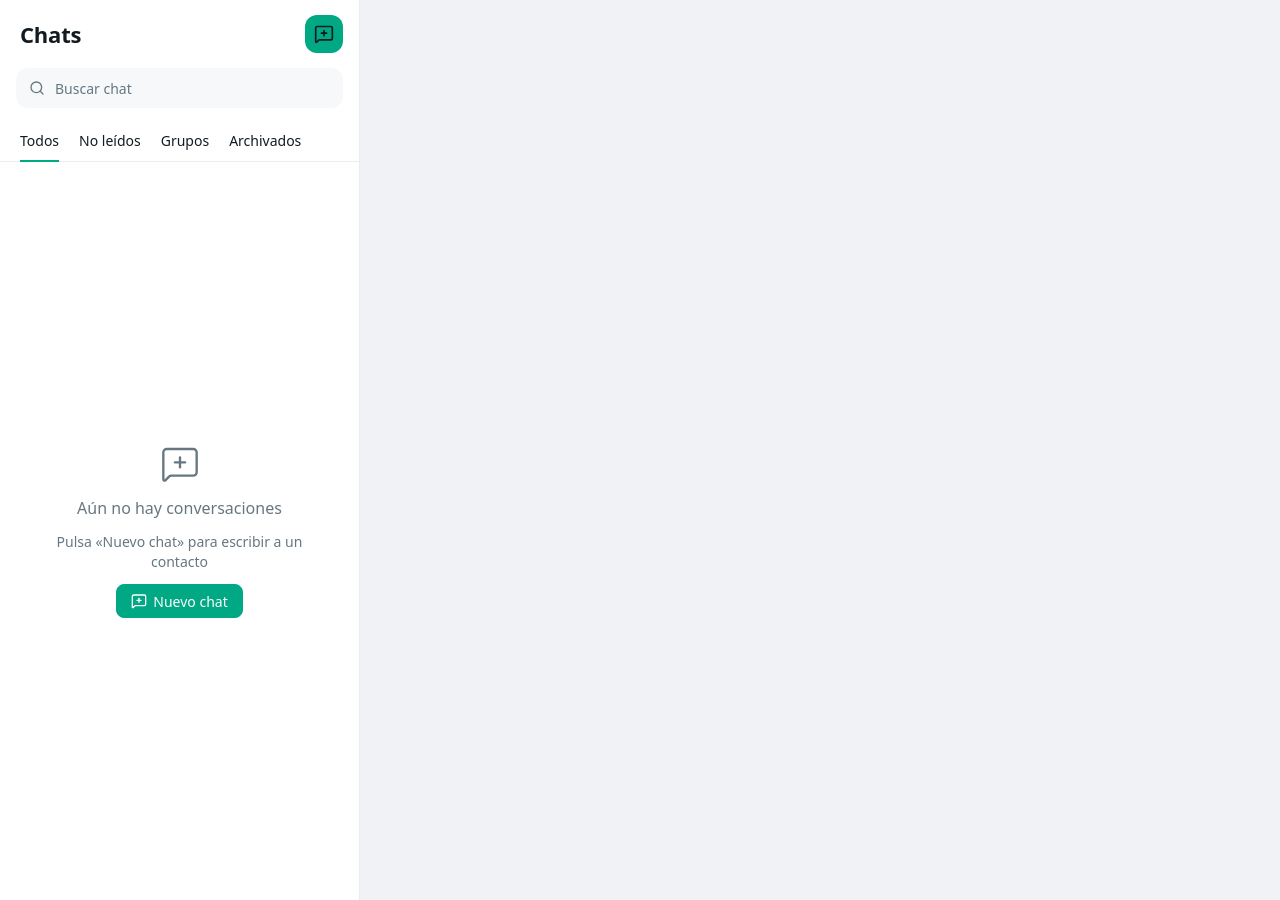
Test: ChatSidebar: botón «Nuevo chat» › junto al buscador abre el diálogo de nuevo chat
// el botón junto al buscador (el del estado vacío tiene el mismo nombre accesible)
Click the button named "Nuevo chat".
click(324, 34)  # box [305,15,343,53]
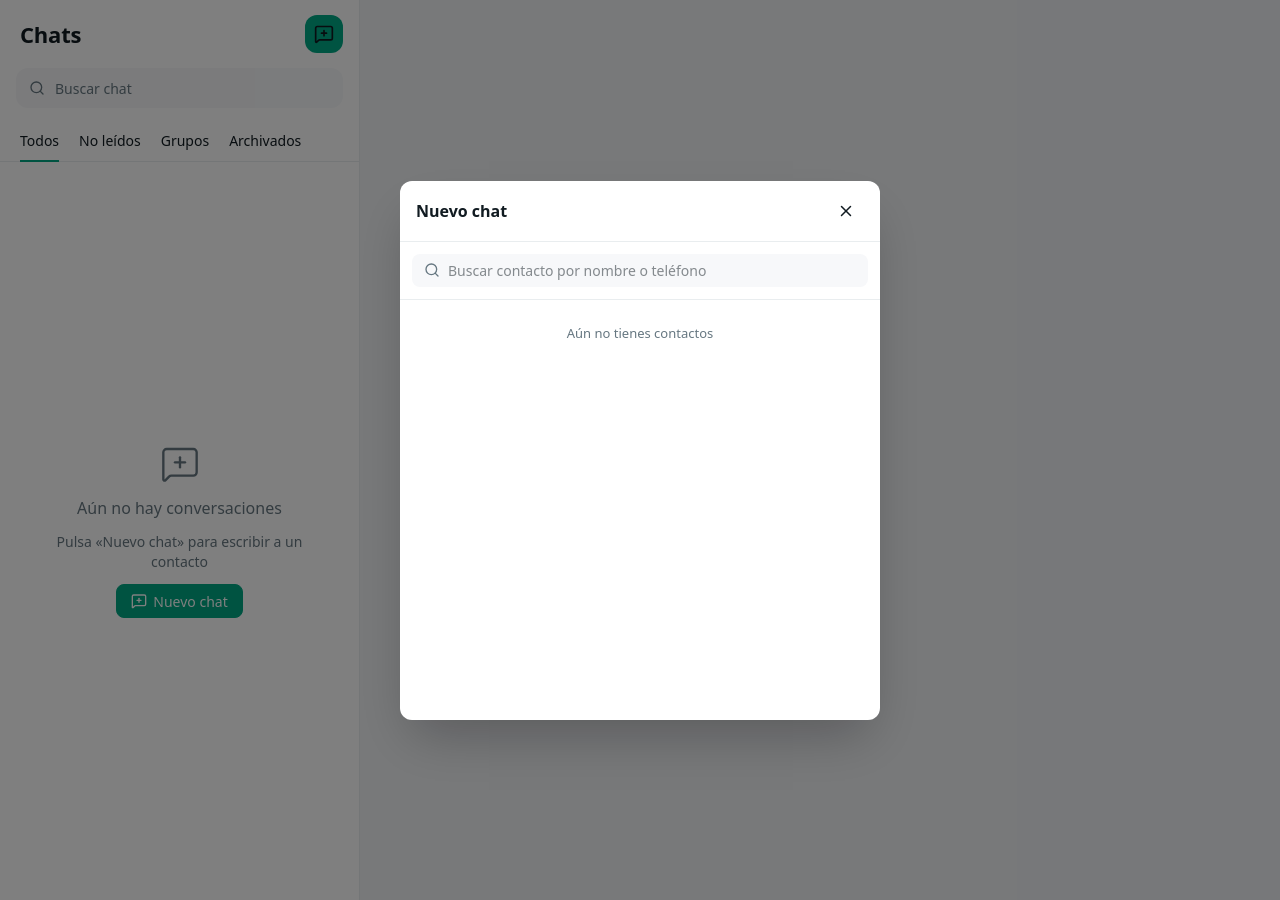
Expected: the dialog "Nuevo chat" is shown
Expected: the field labelled "Buscar contacto" is shown, [448,260,856,280]
